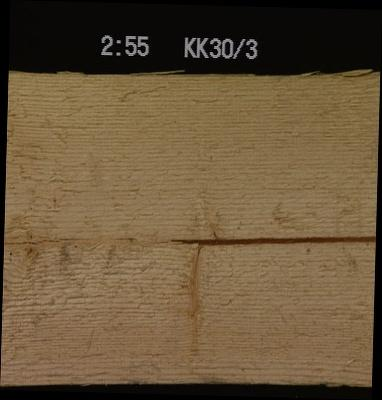split: (4, 228, 189, 249)
